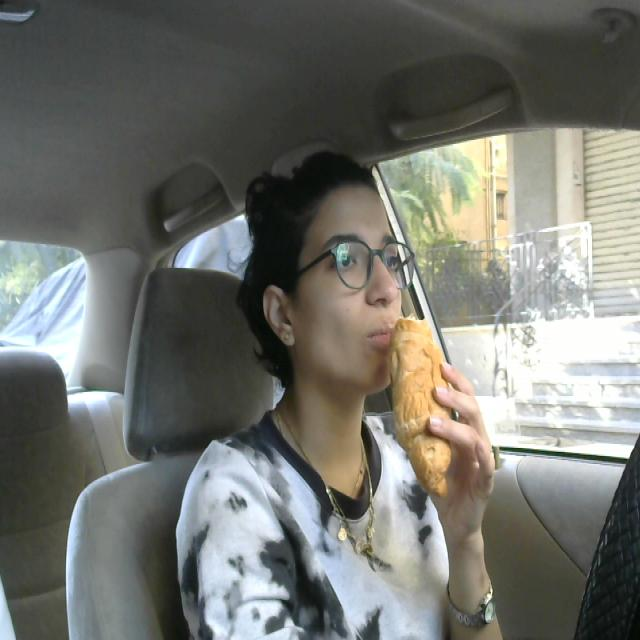eating: (383, 310, 463, 500)
